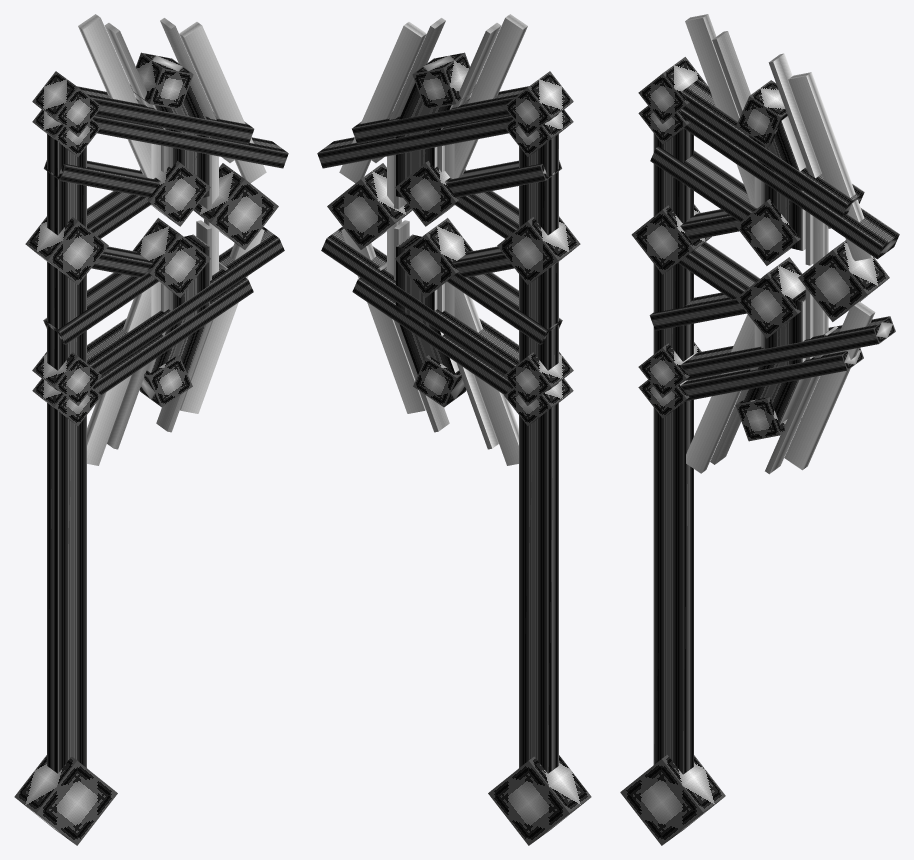
Rendered from iron_axe.gltf.
3 views of the same model, side by side, from view 1: azimuth 30°, elevation 25°; view 2: azimuth 150°, elevation 25°; view 3: azimuth 330°, elevation 25° (orthographic).
Visible parts, largest first — view 1: cube (×32); view 2: cube (×32); view 3: cube (×33).
Part boxes in pixels (x1=…): cube (×32): x1=14, y1=14, x2=288, y2=845; cube (×32): x1=317, y1=14, x2=591, y2=845; cube (×33): x1=620, y1=14, x2=899, y2=845.
Bounding box in the file's own units: 0.8285 × 2.53 × 0.1263.
8 materials, 1 textured.
